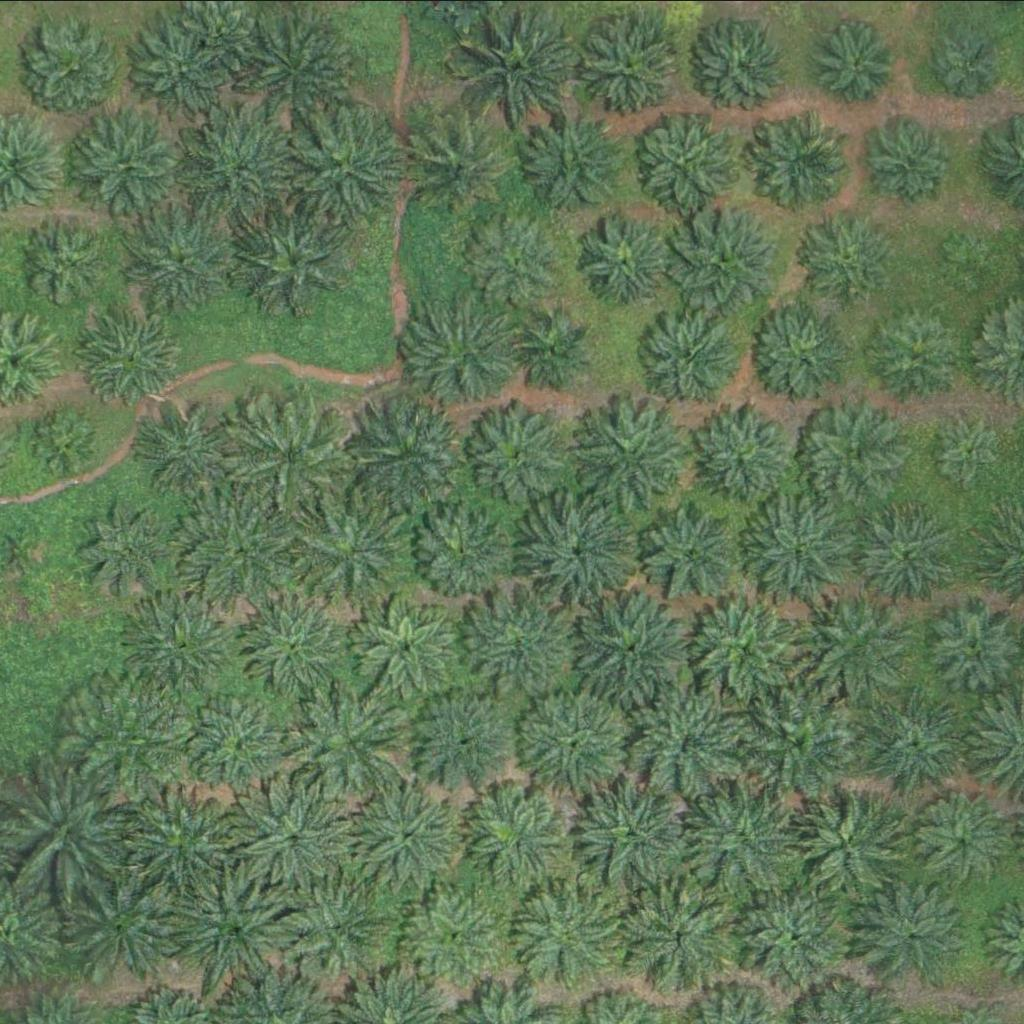Kelapa_Sawit: (70, 682, 184, 795), (9, 770, 123, 883), (233, 401, 347, 514), (407, 297, 521, 410), (628, 105, 742, 218), (667, 207, 781, 320), (861, 876, 975, 989), (76, 105, 189, 218), (514, 875, 627, 988), (623, 883, 736, 996), (124, 790, 237, 903), (186, 687, 299, 800), (293, 683, 406, 796), (407, 686, 520, 799), (461, 583, 574, 696), (571, 591, 684, 704), (187, 112, 300, 225), (249, 10, 362, 123), (746, 490, 859, 603), (692, 589, 805, 702), (691, 778, 804, 891), (790, 787, 903, 900), (742, 878, 855, 991), (118, 593, 232, 705), (233, 589, 347, 701), (185, 494, 299, 606), (293, 497, 407, 609), (346, 397, 460, 509), (461, 400, 575, 512), (464, 8, 577, 120), (73, 492, 186, 604), (67, 868, 180, 980), (182, 873, 295, 985), (284, 871, 397, 983), (243, 782, 356, 894), (354, 781, 467, 893), (578, 776, 691, 888), (521, 688, 634, 800), (633, 687, 746, 799), (514, 496, 627, 608), (579, 398, 692, 510), (238, 204, 351, 316), (291, 108, 404, 220), (522, 103, 635, 215), (803, 588, 916, 700), (743, 685, 856, 797), (855, 689, 968, 801), (412, 110, 513, 210), (135, 210, 236, 310), (80, 308, 181, 408), (405, 887, 506, 987), (465, 787, 566, 887), (352, 597, 453, 697), (643, 502, 744, 602), (139, 402, 240, 502), (578, 16, 679, 116), (797, 203, 898, 303), (746, 305, 847, 405), (865, 301, 966, 401), (691, 405, 792, 505), (803, 404, 904, 504), (852, 504, 953, 604), (409, 501, 509, 601), (642, 312, 742, 412), (465, 210, 565, 310), (577, 213, 677, 313), (692, 14, 792, 114), (752, 113, 852, 213), (911, 790, 1011, 890), (25, 218, 114, 306), (816, 21, 904, 109), (31, 20, 119, 107), (138, 27, 226, 114), (868, 120, 956, 207), (511, 314, 587, 389), (935, 416, 1010, 491), (34, 411, 97, 474), (936, 33, 999, 96), (939, 232, 1002, 294)
